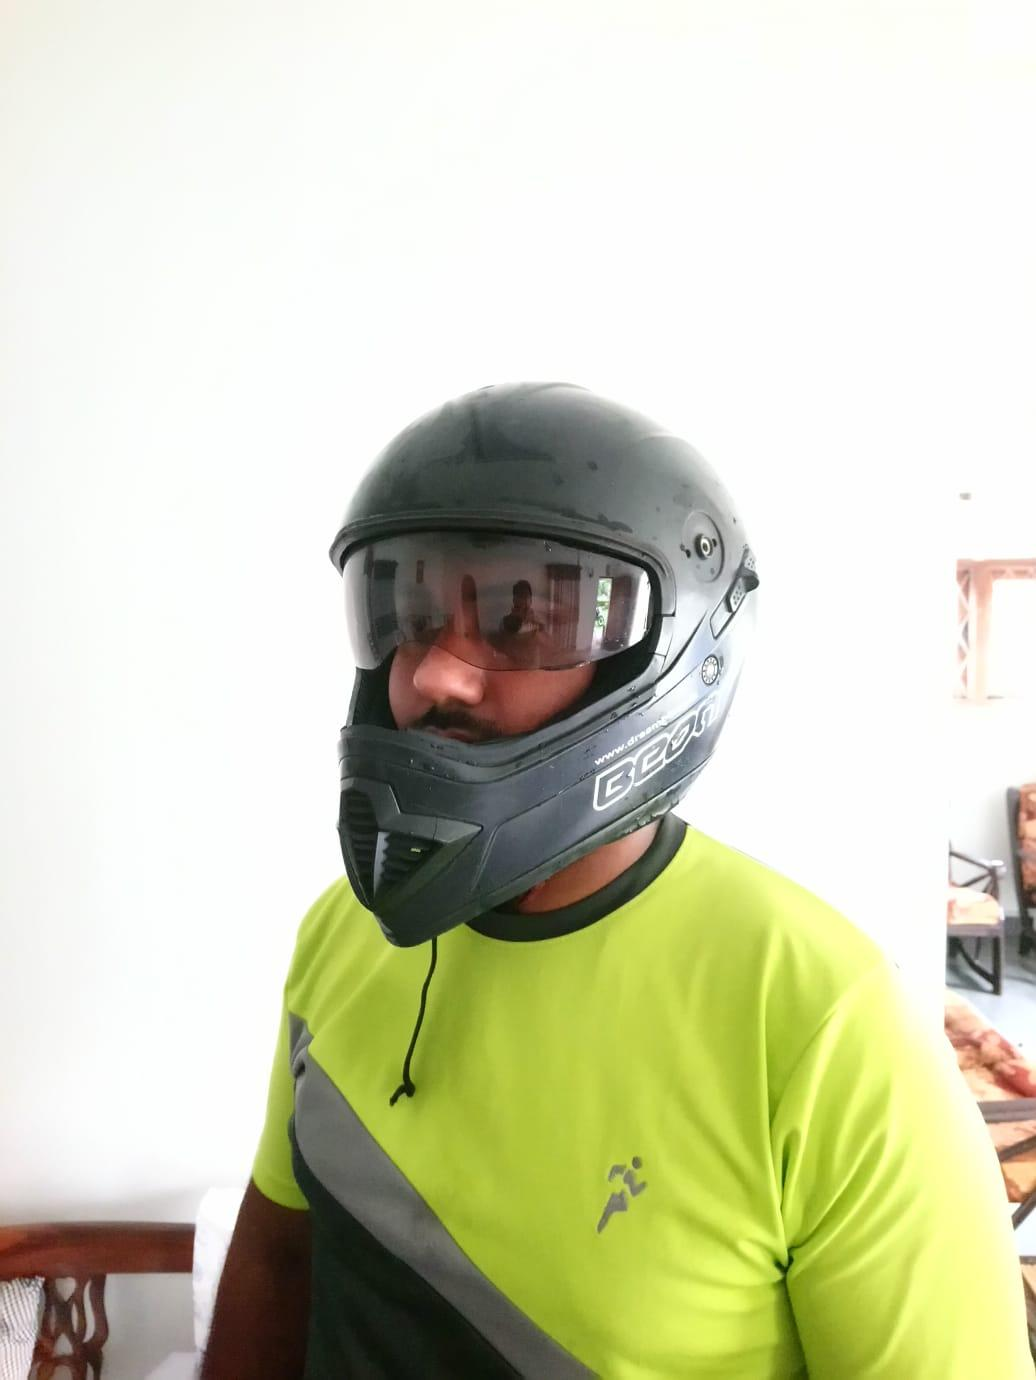helmet: (326, 379, 752, 946)
